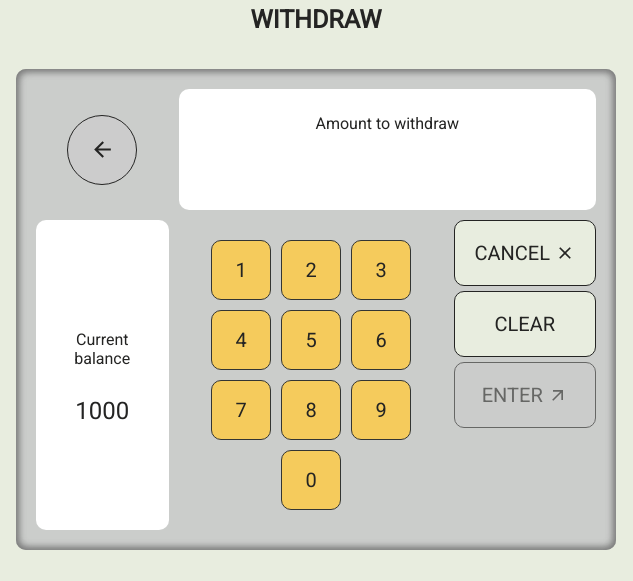
it: Transaction Component › shows error when withdrawing more than balance
Click the button with test id "key-9". click: [381, 410]
box: [351,380,411,440]
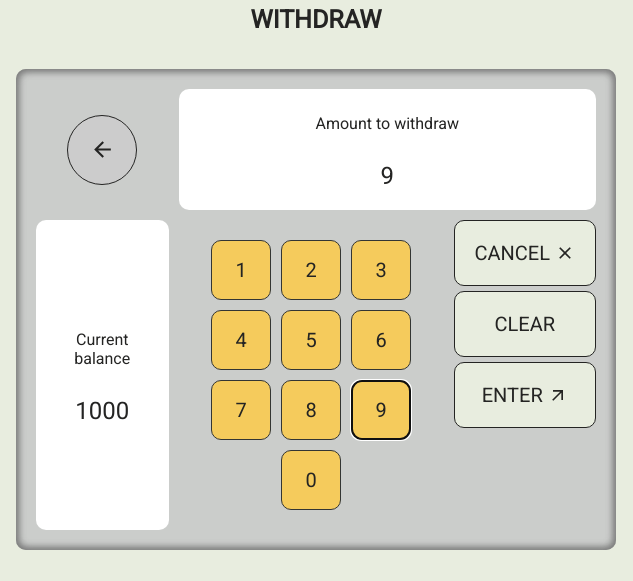
Click the button with test id "key-9". click: [381, 410]
box: [351,380,411,440]
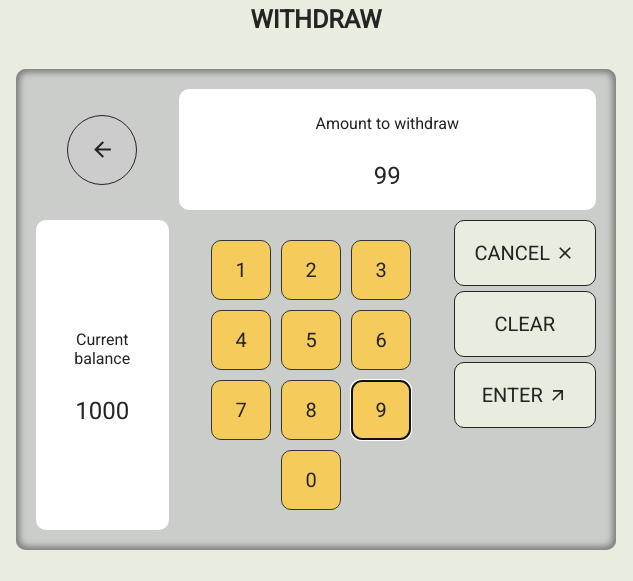
Click the button with test id "key-9". click: [381, 410]
box: [351,380,411,440]
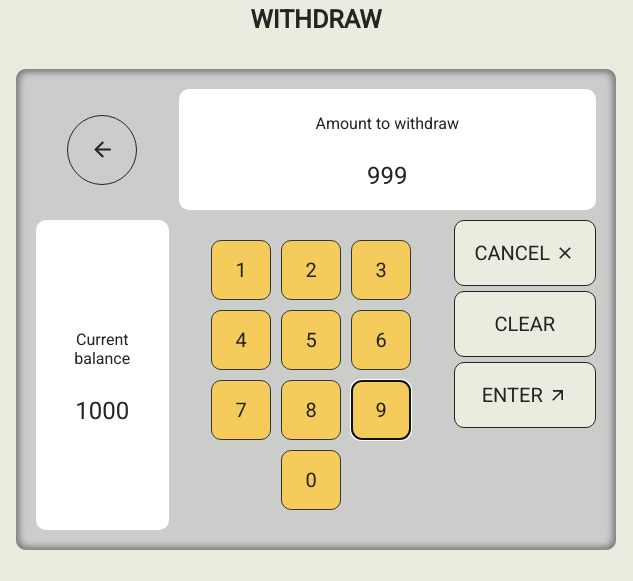
Click the button with test id "key-9". click: [381, 410]
box: [351,380,411,440]
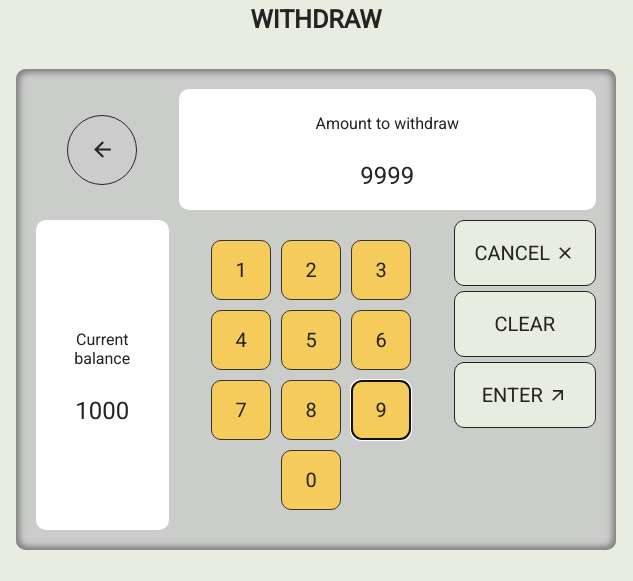
Click the button "ENTER". click: [525, 395]
box: [454,362,596,428]
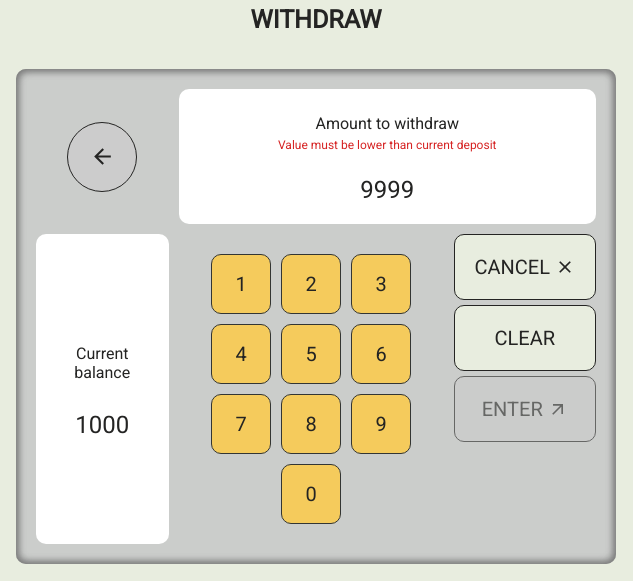
Expected: the text with test id "error" reads "Value must be lower than current deposit", [278,138,496,152]
